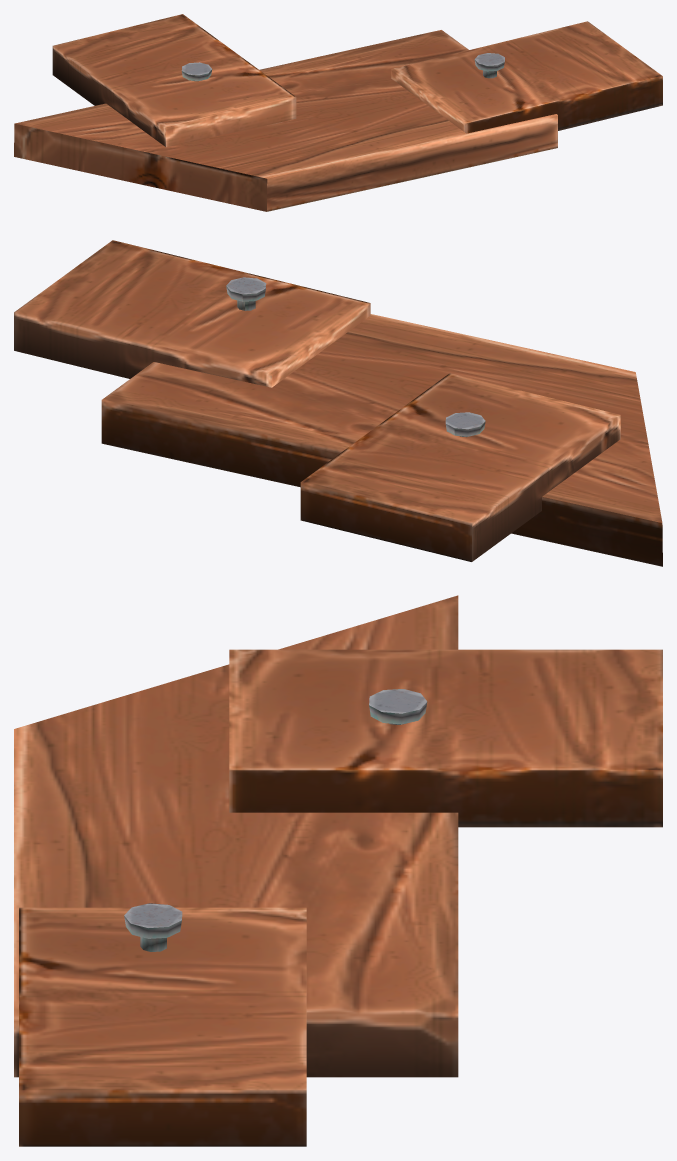
Rendered from SM_Plank_MG3.fbx.
The picture shows the model from 3 angles, top to bottom: view 1: azimuth 30°, elevation 25°; view 2: azimuth 150°, elevation 25°; view 3: azimuth 270°, elevation 25°; orthographic projection. The views are drawn at different scales.
Parts seen in each view (by area): view 1: Planche002; view 2: Planche002; view 3: Planche002.
Boxes of the visible parts, x1,y1,x2,y2 form: Planche002: (14, 14, 662, 211); Planche002: (14, 240, 662, 566); Planche002: (14, 595, 662, 1146).
Size of the model in its own units: 139 by 76.27 by 17.2.
